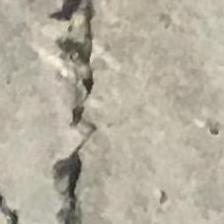Crack: (16, 0, 154, 224)
